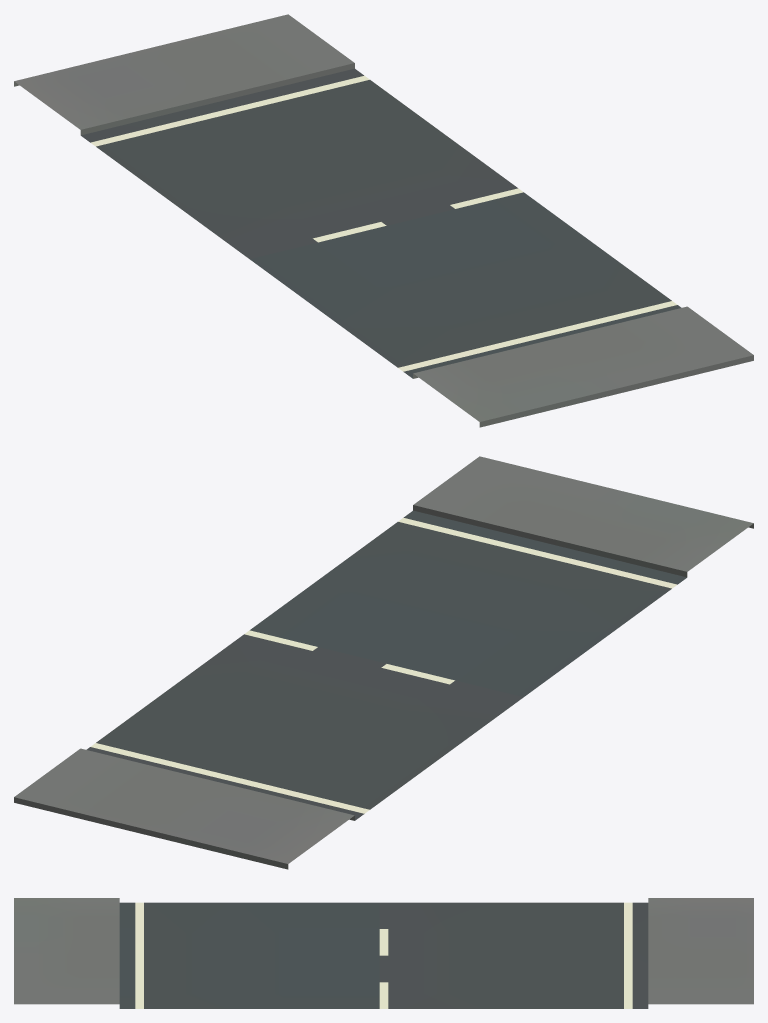
Rendered from city_road.glb.
3 renders of one model, top to bottom at view 1: azimuth 30°, elevation 25°; view 2: azimuth 150°, elevation 25°; view 3: azimuth 270°, elevation 25°, orthographic. The views are drawn at different scales.
Parts seen in each view (by area): view 1: Road_3_Mat_0; view 2: Road_3_Mat_0; view 3: Road_3_Mat_0.
Boxes of the visible parts, x1,y1,x2,y2 form: Road_3_Mat_0: (14, 14, 753, 427); Road_3_Mat_0: (14, 456, 753, 869); Road_3_Mat_0: (14, 898, 753, 1008).
Size of the model in its own units: 2.04 by 0.0396 by 6.
1 material, 1 textured.
